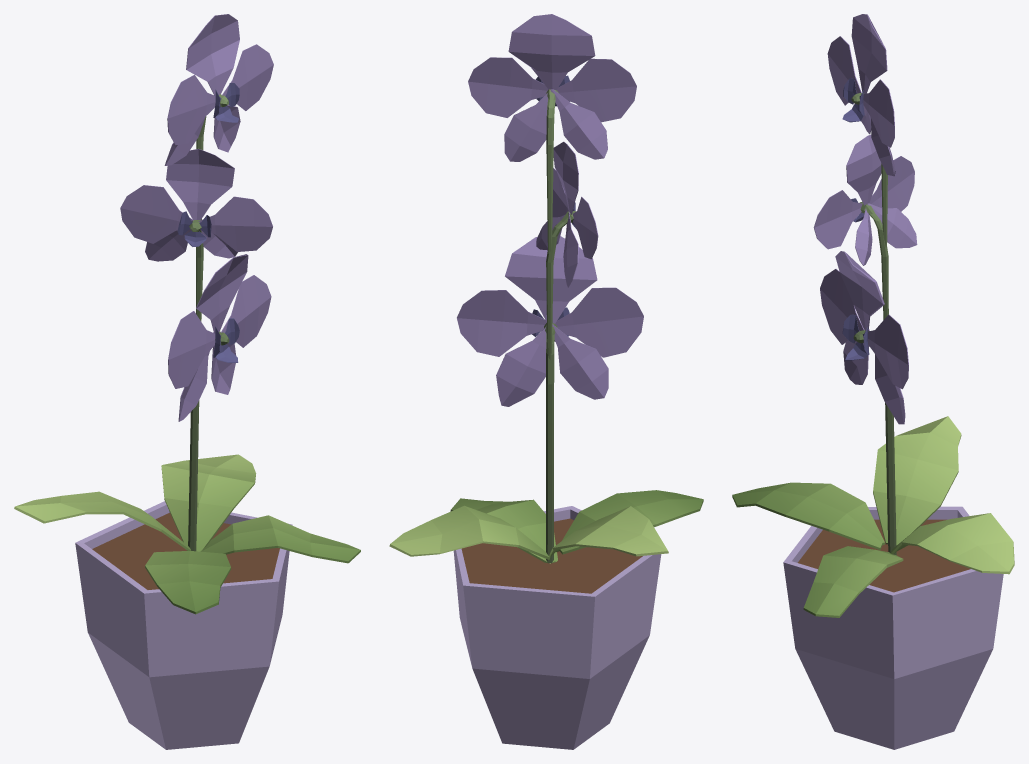
File: Plant_09.fbx
The picture shows the model from 3 angles, left to right: view 1: azimuth 30°, elevation 25°; view 2: azimuth 150°, elevation 25°; view 3: azimuth 270°, elevation 25°; orthographic projection. The views are drawn at different scales.
Parts seen in each view (by area): view 1: Plant_09; view 2: Plant_09; view 3: Plant_09.
Boxes of the visible parts, x1,y1,x2,y2 form: Plant_09: (14,14,360,749); Plant_09: (389,14,703,749); Plant_09: (732,14,1014,749).
Bounding box in the file's own units: 19.54 × 47.77 × 17.14.
